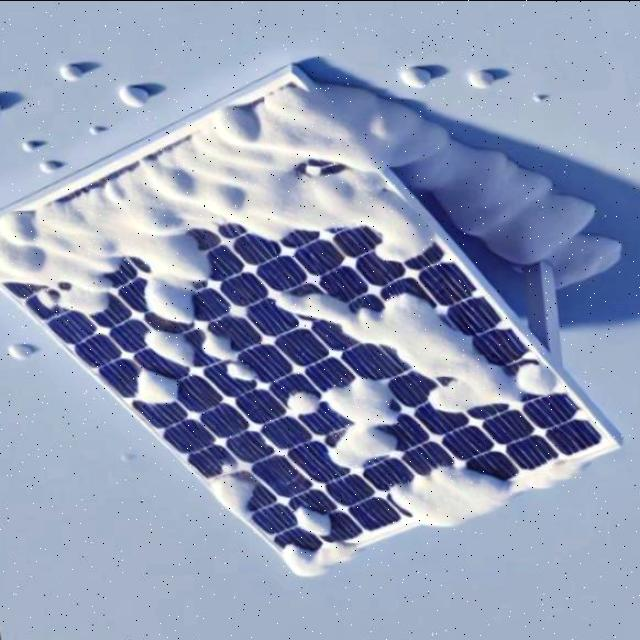Anomaly Solar Panel: (0, 5, 612, 640)
Snow: (0, 60, 435, 402), (259, 227, 572, 461), (372, 454, 514, 525), (318, 372, 392, 472), (188, 324, 254, 386), (131, 322, 197, 372), (270, 533, 353, 571), (201, 462, 247, 520), (122, 364, 175, 411), (283, 503, 330, 539), (277, 390, 315, 415)
